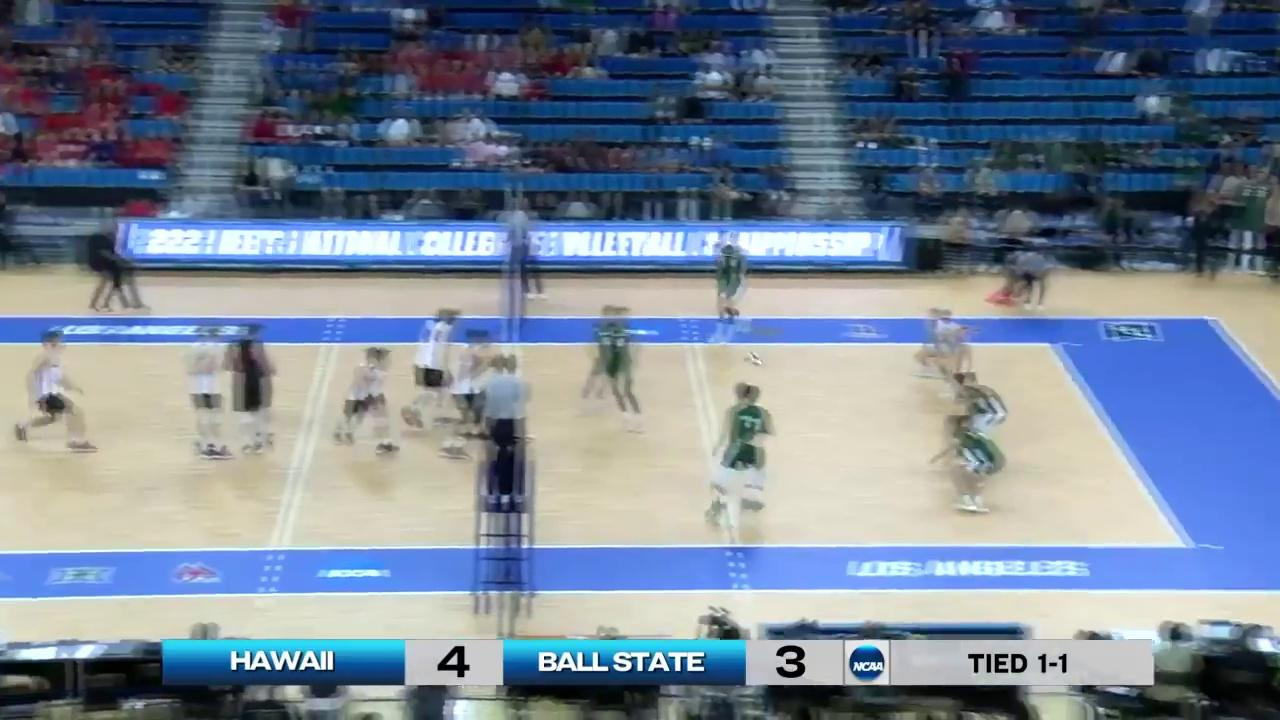player: (705, 382, 774, 529), (11, 329, 93, 450), (576, 307, 647, 434), (445, 330, 501, 462), (335, 348, 399, 454), (937, 416, 1007, 511), (228, 323, 278, 455), (408, 307, 459, 430), (185, 326, 230, 461), (708, 232, 751, 343), (913, 309, 970, 383), (954, 374, 1009, 442)
refree: (483, 356, 532, 506), (1000, 251, 1053, 309)
